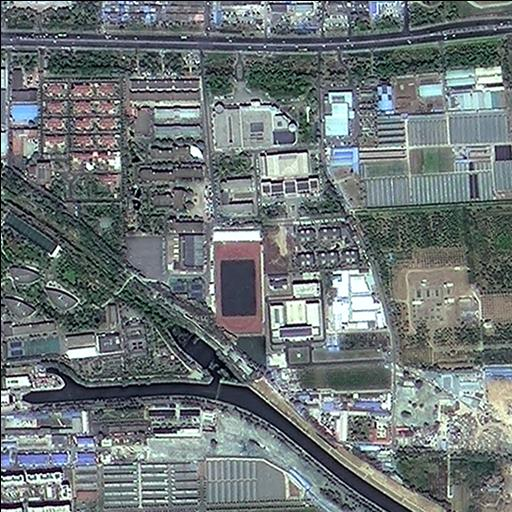school: (123, 75, 266, 335)
